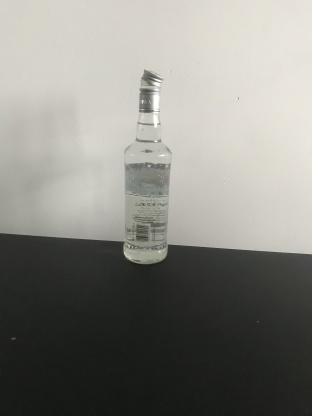nakretka: (137, 67, 164, 114)
